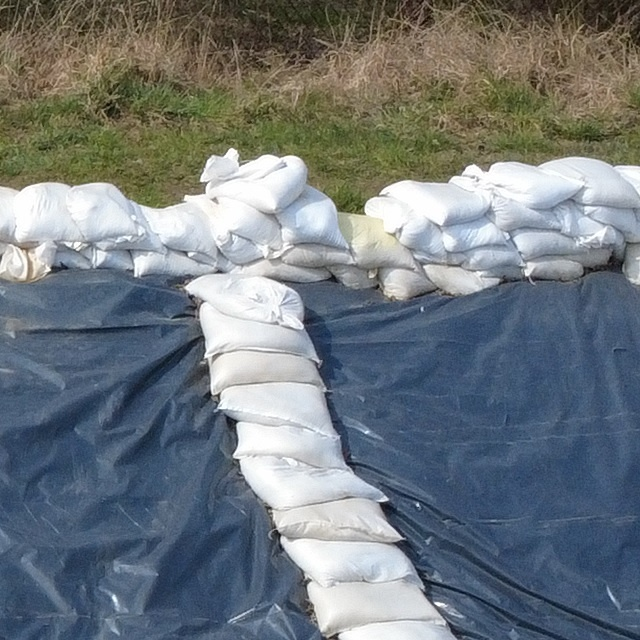sandbag: (239, 457, 386, 510), (199, 303, 321, 366), (308, 581, 444, 637), (185, 195, 288, 266), (201, 149, 308, 215), (186, 274, 304, 331), (281, 538, 420, 585), (219, 383, 335, 436), (272, 499, 401, 544), (540, 157, 640, 209), (209, 351, 322, 396), (235, 423, 345, 469), (380, 181, 489, 227), (339, 213, 418, 274), (484, 162, 583, 210), (276, 186, 349, 251), (69, 183, 146, 243), (14, 183, 83, 246), (141, 204, 219, 259), (95, 202, 165, 252), (216, 199, 281, 250), (487, 196, 560, 232), (423, 264, 501, 296), (131, 248, 216, 277), (229, 260, 331, 283), (442, 218, 509, 253), (365, 196, 425, 235), (397, 218, 447, 264), (0, 242, 57, 282), (339, 621, 456, 640), (580, 206, 640, 243), (511, 230, 587, 259), (378, 263, 435, 301), (63, 243, 133, 272), (450, 165, 504, 202), (462, 242, 524, 271), (553, 202, 602, 238), (280, 245, 354, 268), (576, 226, 625, 258), (530, 250, 611, 268), (524, 259, 584, 282), (326, 265, 379, 290), (188, 253, 235, 272), (55, 246, 92, 270), (615, 165, 640, 195), (623, 244, 640, 287), (475, 268, 525, 281)
